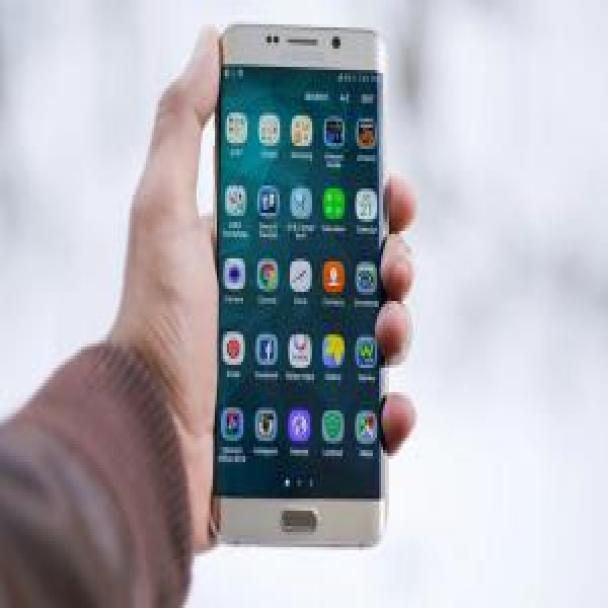Handphone: (210, 13, 388, 555)
